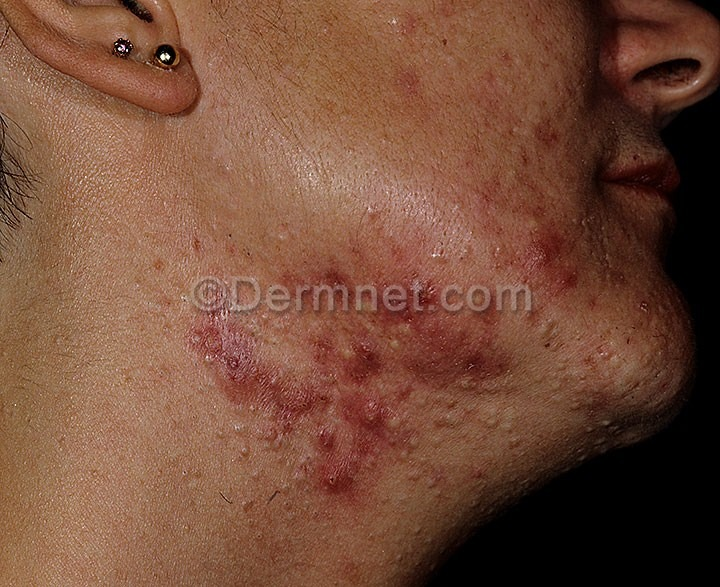Acne: (143, 193, 642, 506)
